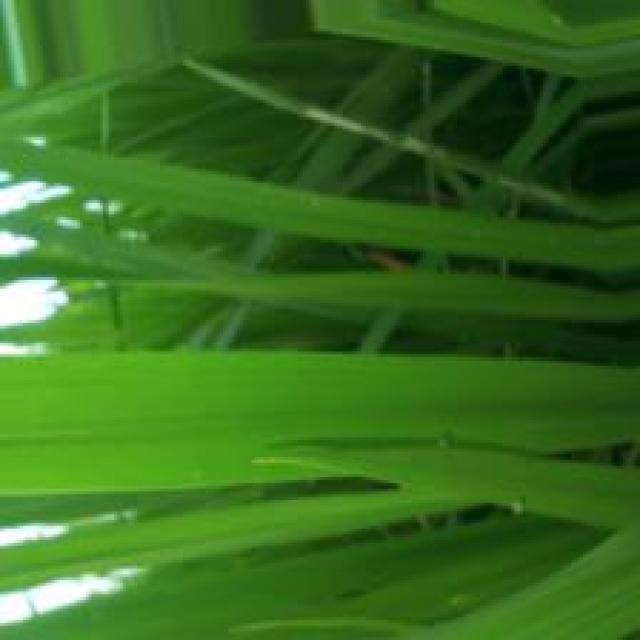HealthyLeaf: (2, 355, 637, 491), (256, 440, 640, 640)
